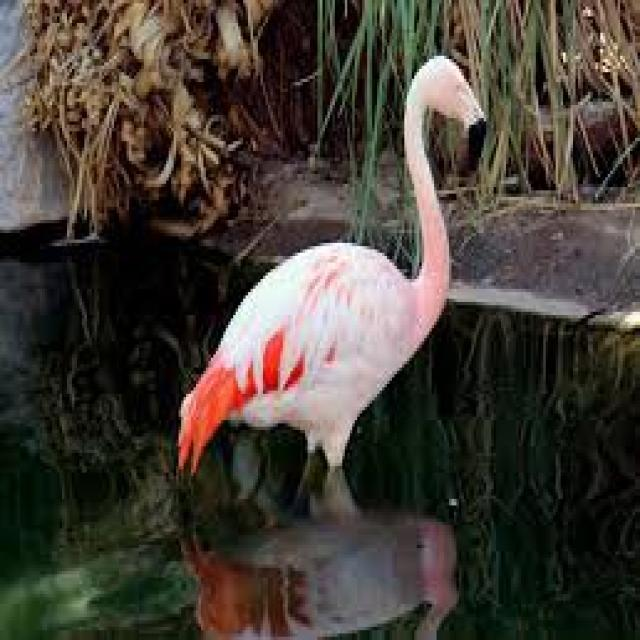Flamingo: (167, 54, 488, 495)
